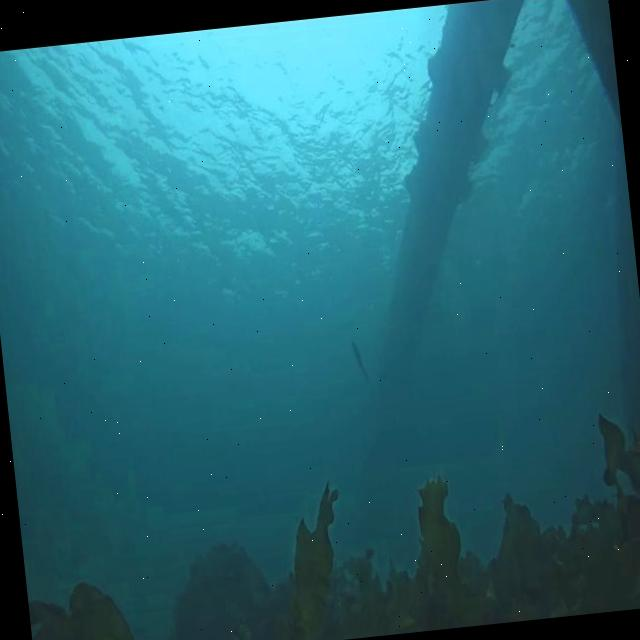fish: (351, 338, 369, 381)
